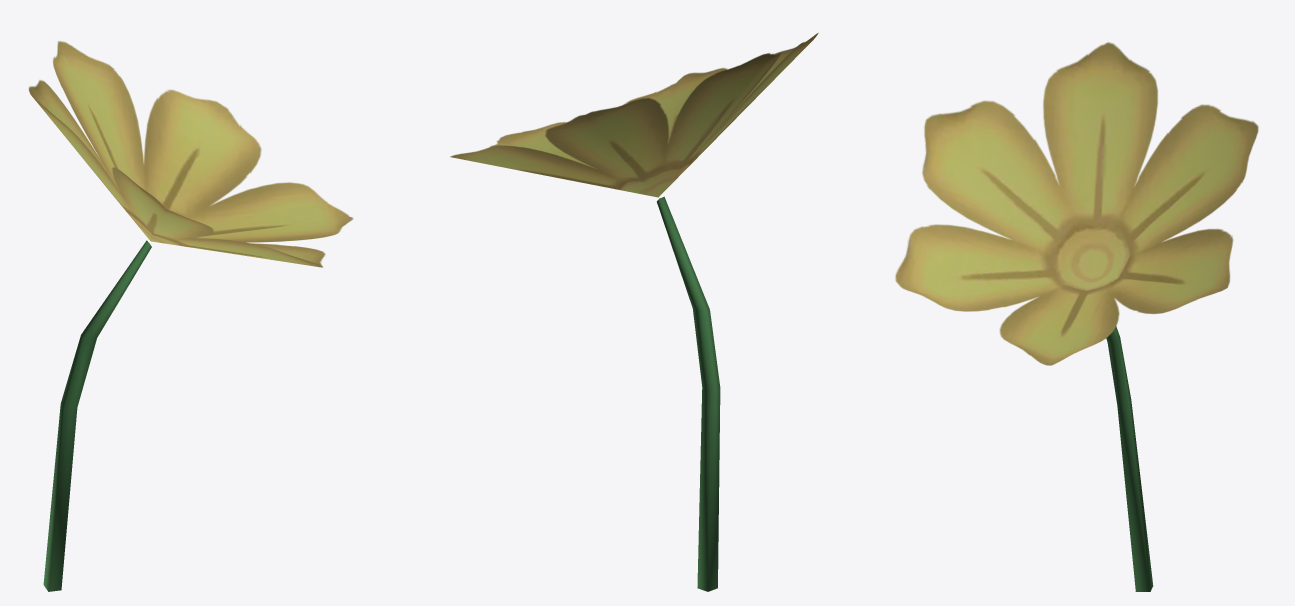
File: Flower_2.glb
3 views of the same model, side by side, from view 1: azimuth 30°, elevation 25°; view 2: azimuth 150°, elevation 25°; view 3: azimuth 270°, elevation 25° (orthographic). The views are drawn at different scales.
Parts seen in each view (by area): view 1: Flower_2; view 2: Flower_2; view 3: Flower_2.
Part boxes in pixels (left/top/right/bottom): Flower_2: left=28, top=41, right=353, bottom=591; Flower_2: left=450, top=33, right=818, bottom=591; Flower_2: left=895, top=42, right=1258, bottom=591.
Bounding box in the file's own units: 0.239 × 0.3613 × 0.2474.
Materials: 1 (1 with a texture image).
